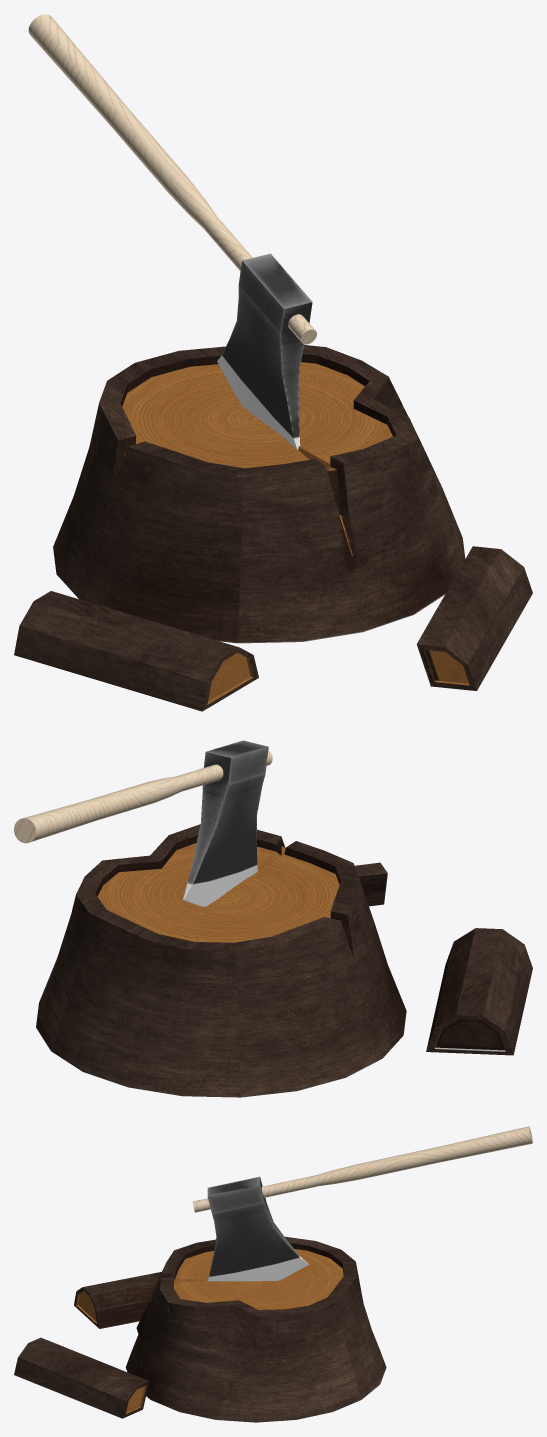
The model's file is TreeStump.fbx.
3 renders of one model, top to bottom at view 1: azimuth 30°, elevation 25°; view 2: azimuth 150°, elevation 25°; view 3: azimuth 270°, elevation 25°, orthographic. The views are drawn at different scales.
Parts seen in each view (by area): view 1: TreeStump; view 2: TreeStump; view 3: TreeStump.
Part boxes in pixels (x1,y1,x2,y2): TreeStump: (14, 14, 532, 711); TreeStump: (14, 740, 532, 1097); TreeStump: (14, 1126, 532, 1422).
Size of the model in its own units: 14.05 by 11.04 by 21.59.
